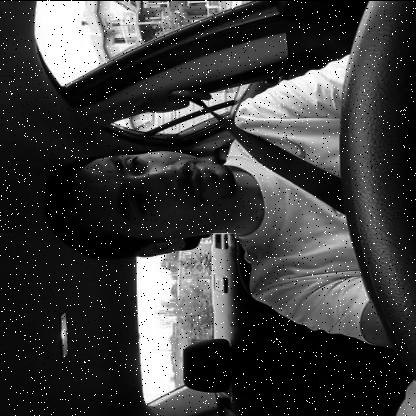seatbelt: (40, 80, 416, 263)
